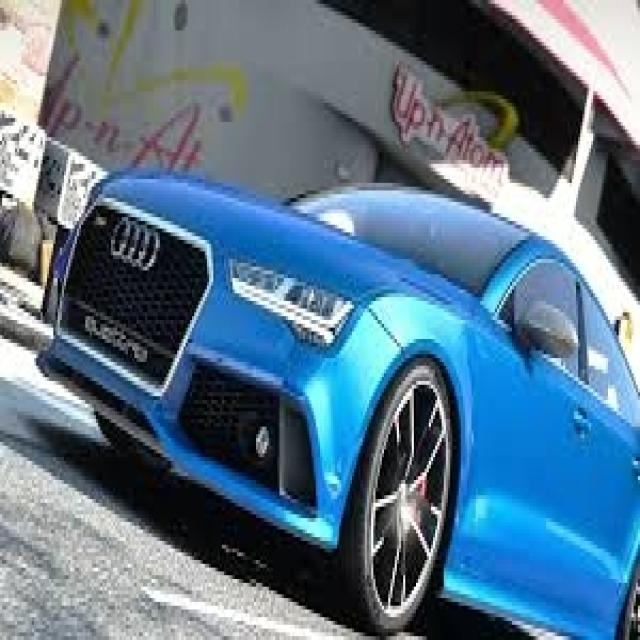blue: (32, 107, 640, 590)
